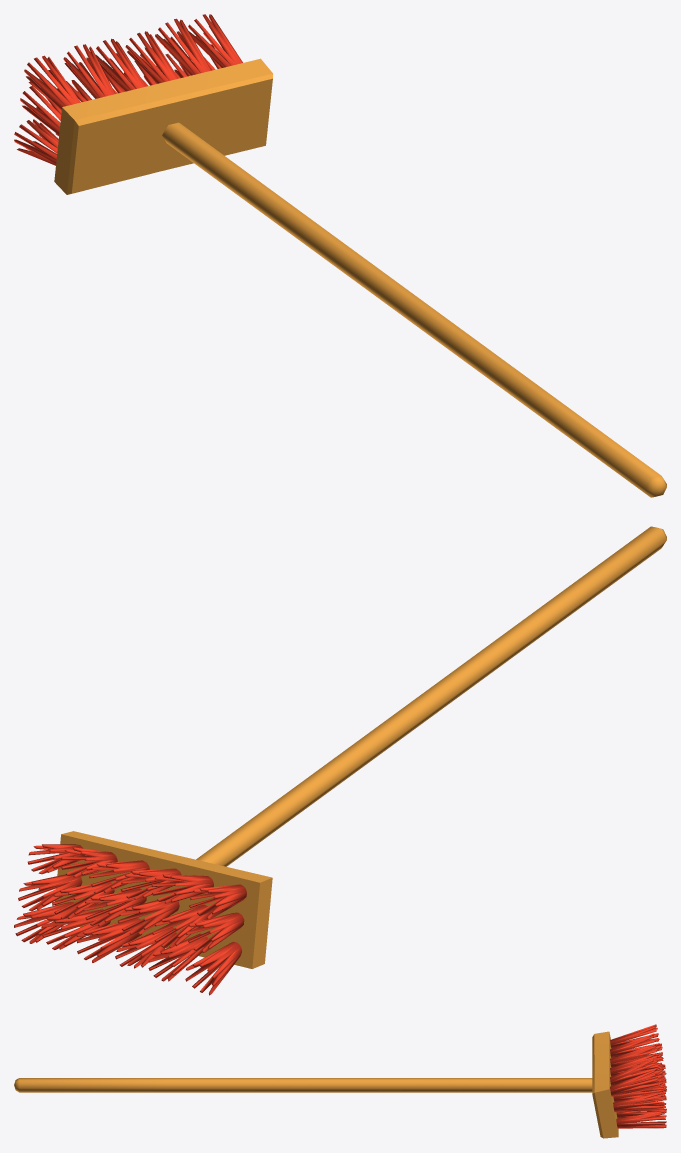
The model's file is M_Broom.FBX.
3 renders of one model, top to bottom at view 1: azimuth 30°, elevation 25°; view 2: azimuth 150°, elevation 25°; view 3: azimuth 270°, elevation 25°, orthographic. The views are drawn at different scales.
Parts seen in each view (by area): view 1: Broom_Handle, Broom_Brush; view 2: Broom_Handle, Broom_Brush; view 3: Broom_Handle, Broom_Brush.
Part boxes in pixels (x1,y1,x2,y2): Broom_Handle: (54,58,666,497); Broom_Brush: (14,14,242,165); Broom_Handle: (55,526,666,968); Broom_Brush: (14,844,246,995); Broom_Handle: (14,1031,618,1138); Broom_Brush: (610,1024,666,1128).
Bounding box in the file's own units: 37.48 × 178 × 19.66.
1 material, 1 textured.
